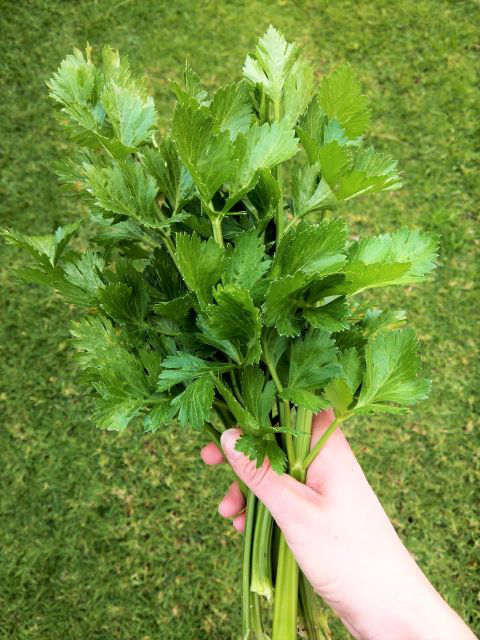Seledri: (39, 106, 446, 533)
